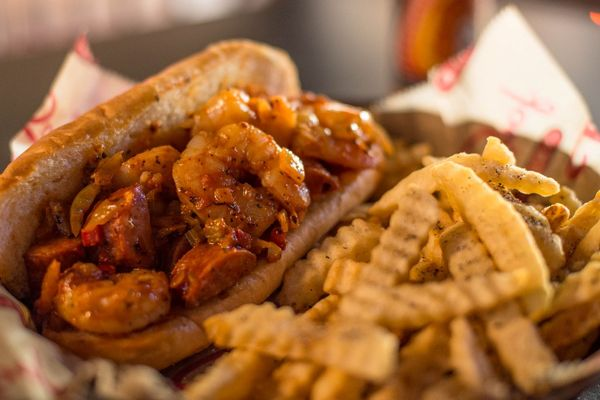soup: (1, 39, 402, 387)
